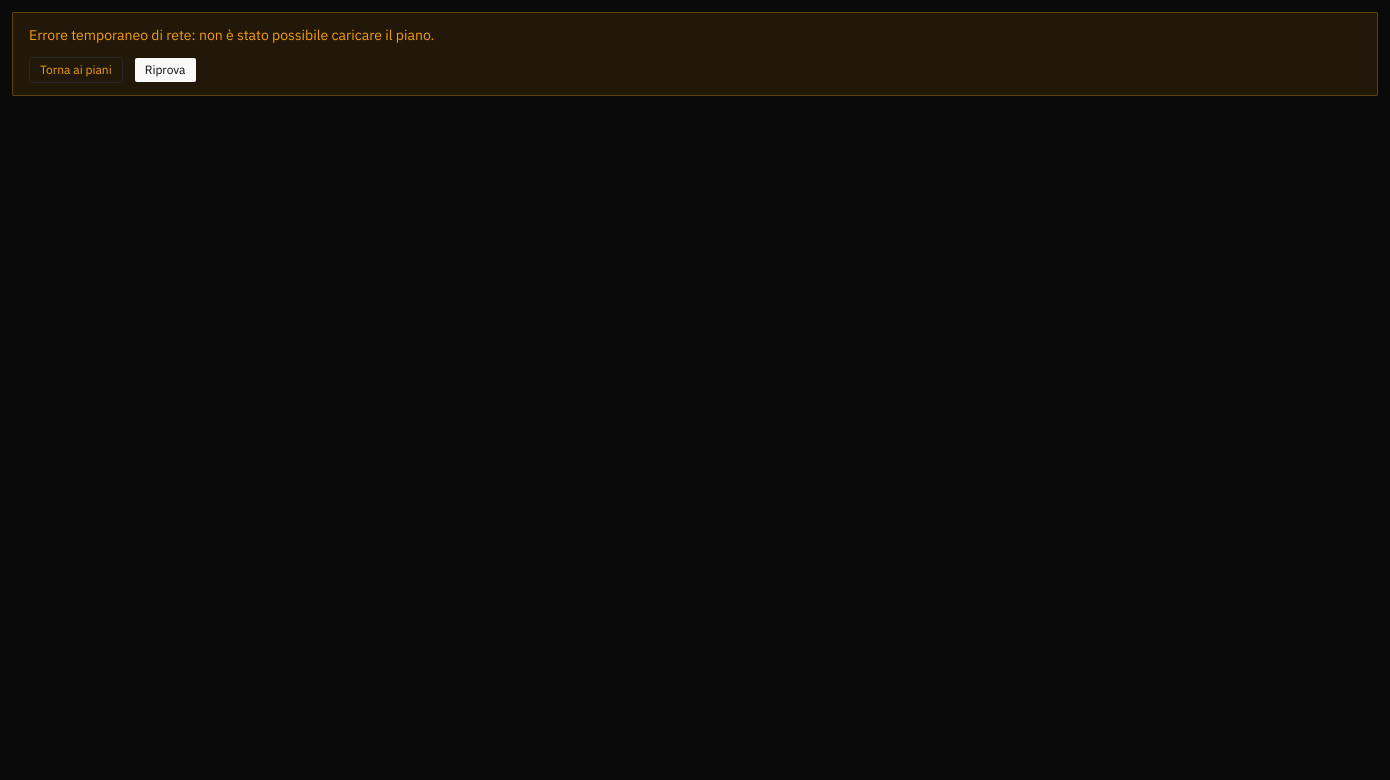
it: PlanDetail — stati espliciti di caricamento › successo dopo Riprova: da errore transitorio a piano caricato
Expected: the text with test id "plan-transient-error" is shown, x1=29 y1=26 x2=434 y2=44
Click the button with test id "plan-state-retry" at (165, 70), box x1=135 y1=58 x2=196 y2=82
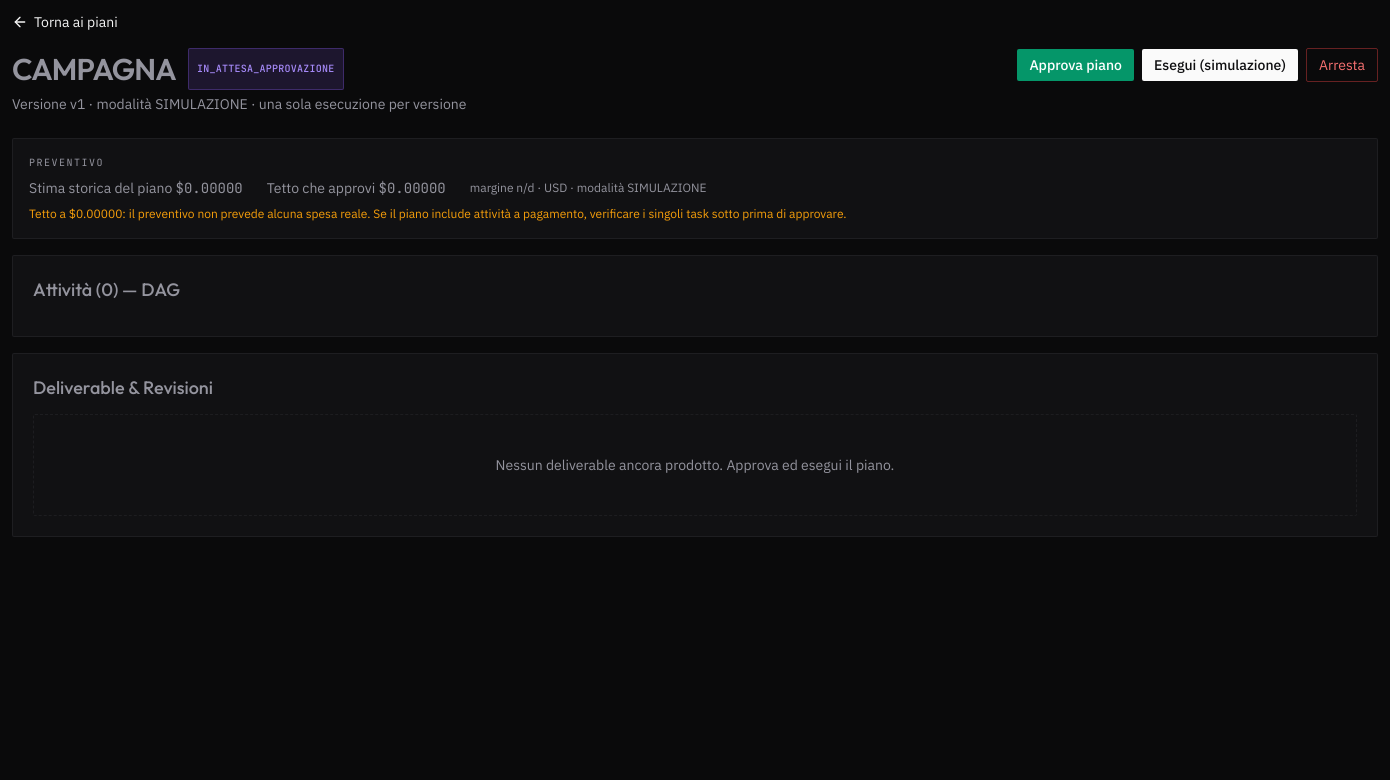
Result: the element with test id "plan-detail" is shown
Result: the text "IN_ATTESA_APPROVAZIONE" is shown at x1=188 y1=48 x2=344 y2=90
